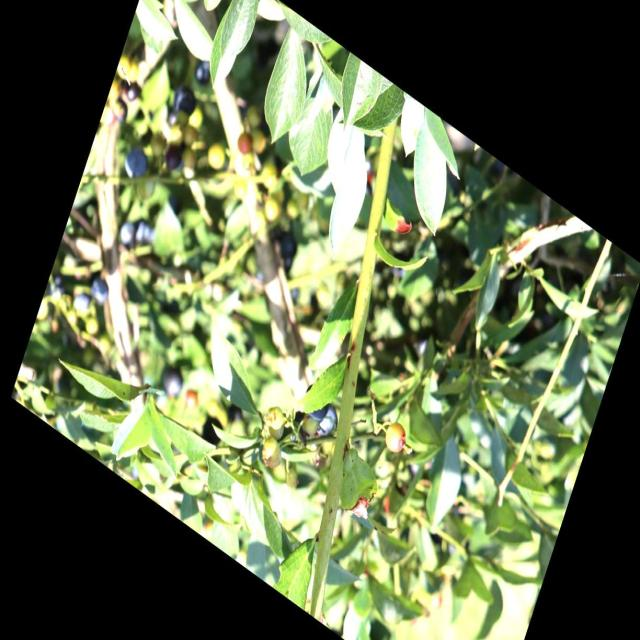blueberry: (298, 376, 334, 429), (154, 356, 185, 404), (120, 138, 150, 185), (314, 400, 344, 446), (169, 80, 199, 124), (189, 52, 216, 94), (160, 136, 186, 174), (85, 271, 111, 305)
blueberry-halfripe: (378, 413, 410, 458)
blueberry-unripe: (255, 428, 287, 474), (257, 392, 289, 434)
